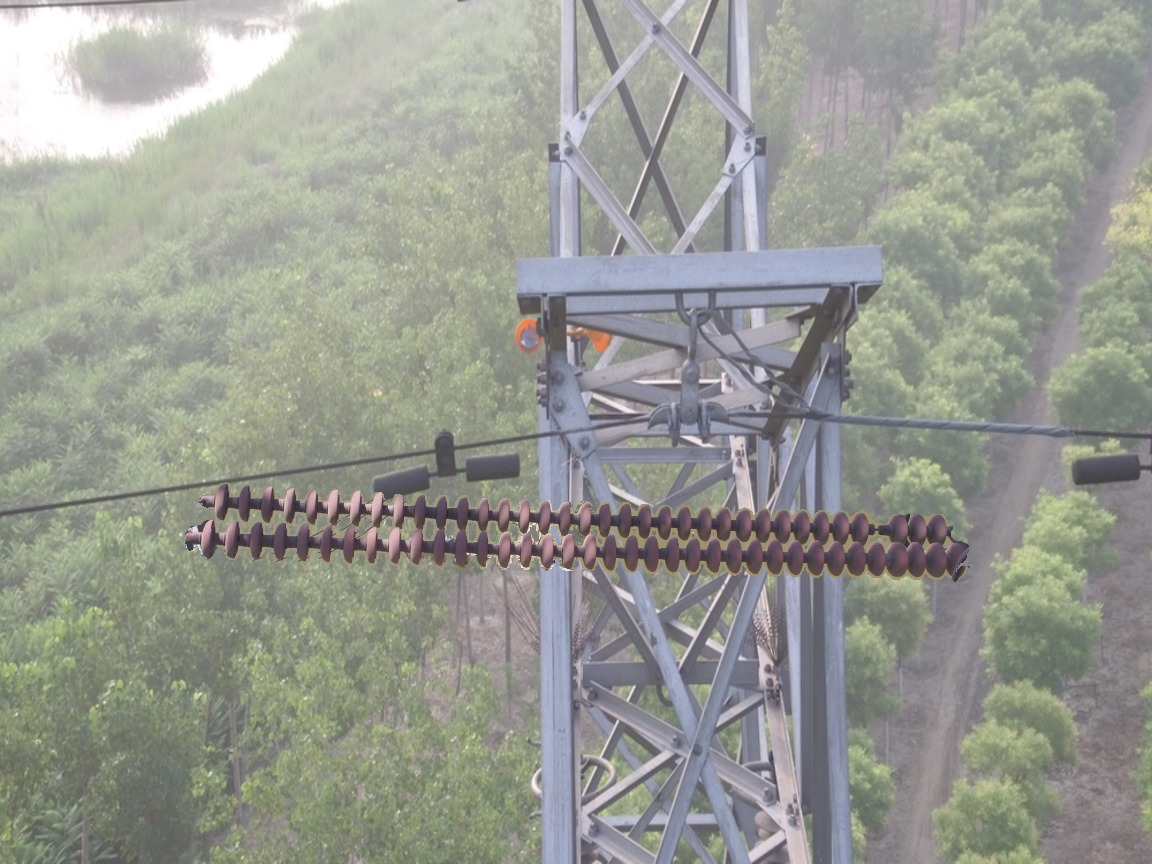defect: (850, 508, 910, 546)
